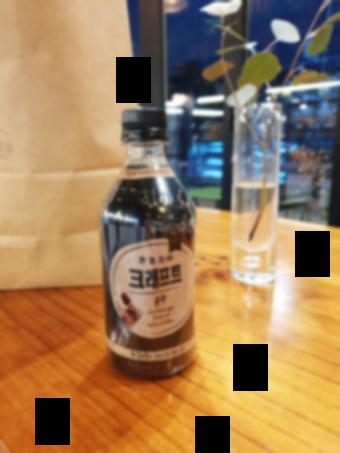georgiacraft_black: (92, 105, 207, 383)
